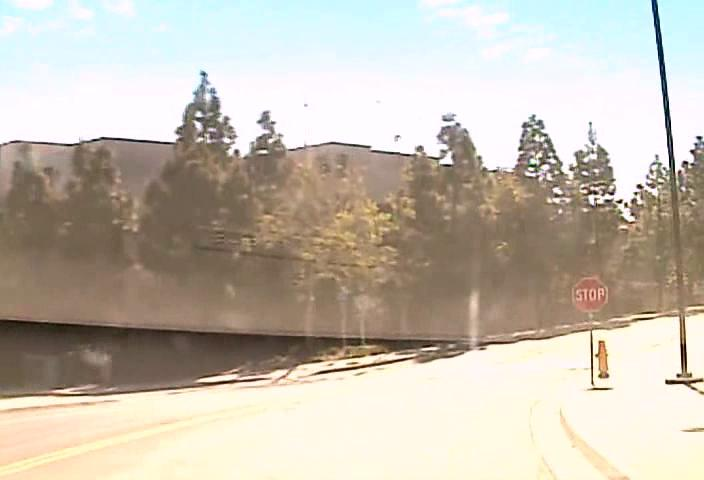stop: (572, 276, 608, 312)
